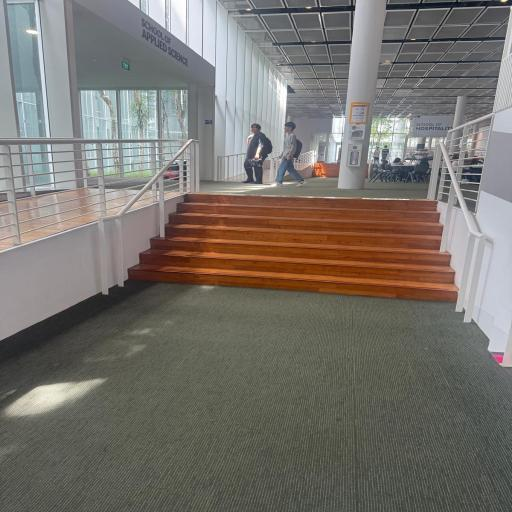person_left: (270, 121, 306, 187), (241, 122, 272, 186)
